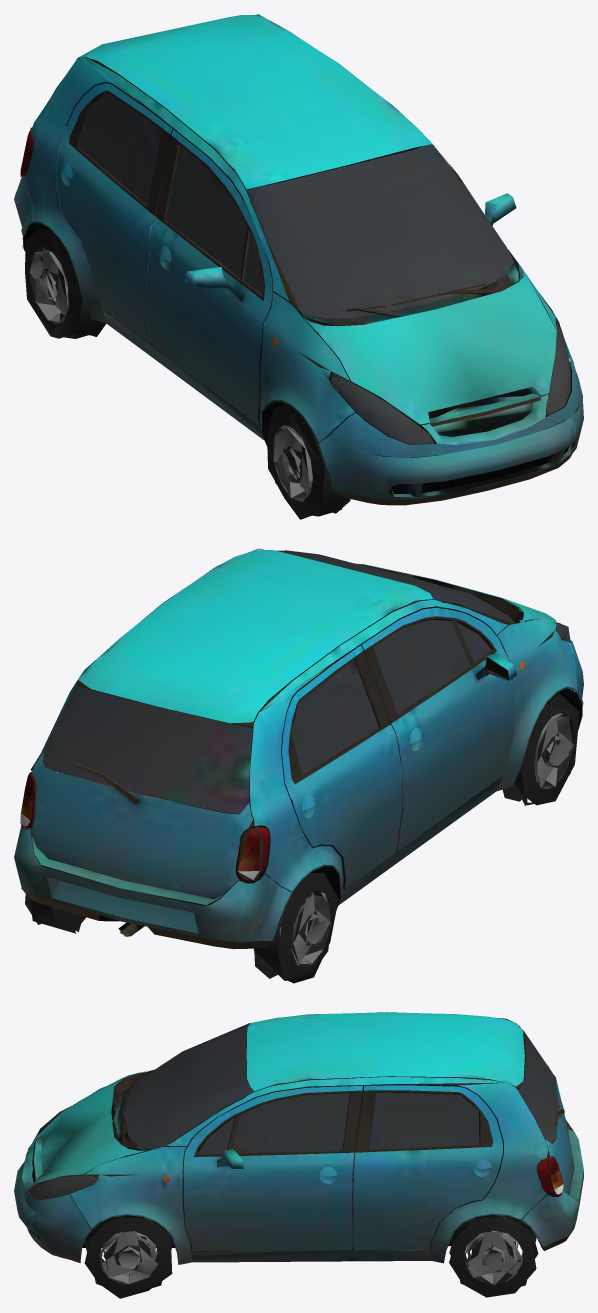
Rendered from pack-compact-L2.glb.
3 renders of one model, top to bottom at view 1: azimuth 30°, elevation 25°; view 2: azimuth 150°, elevation 25°; view 3: azimuth 270°, elevation 25°, orthographic. The views are drawn at different scales.
Visible parts, largest first — view 1: body, wheel-front-left, wheel-back-left, wheel-back-left.1, wheel-front-left.1; view 2: body, wheel-back-left, wheel-front-left, wheel-front-left.1, wheel-back-left.1, wheel-back-right; view 3: body, wheel-back-right, wheel-front-right, wheel-front-right.1, wheel-back-right.1.
Part boxes in pixels (x1,y1,x2,y2): body: [14, 14, 583, 505]; wheel-front-left: [267, 404, 350, 519]; wheel-back-left: [25, 228, 105, 338]; wheel-back-left.1: [29, 247, 81, 323]; wheel-front-left.1: [273, 425, 312, 501]; body: [14, 548, 583, 949]; wheel-back-left: [253, 872, 338, 983]; wheel-front-left: [502, 693, 579, 805]; wheel-front-left.1: [534, 713, 573, 788]; wheel-back-left.1: [279, 892, 331, 965]; wheel-back-right: [25, 894, 85, 933]; body: [14, 1012, 583, 1264]; wheel-back-right: [449, 1215, 538, 1297]; wheel-front-right: [84, 1216, 173, 1298]; wheel-front-right.1: [99, 1231, 158, 1284]; wheel-back-right.1: [465, 1230, 522, 1284].
Bounding box in the file's own units: 1.61 × 1.36 × 3.26.
Materials: 3 (1 with a texture image).
